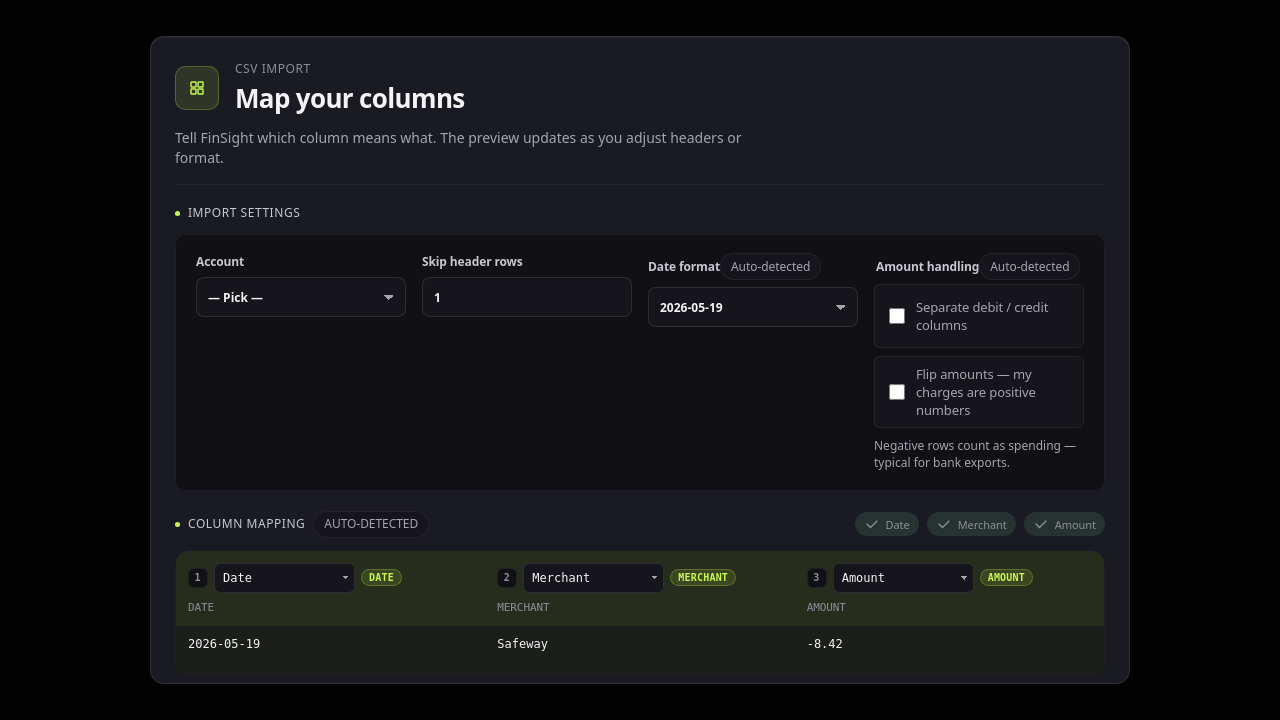
Test case: ImportMappingDialog › an ActivityType column satisfies the merchant requirement (brokerage exports)
Expected: the text "Safeway" is shown, [485,627,795,675]
Select "Chase · Checking" in the dropdown labelled "Account" at (301, 297), box [196,277,406,317]
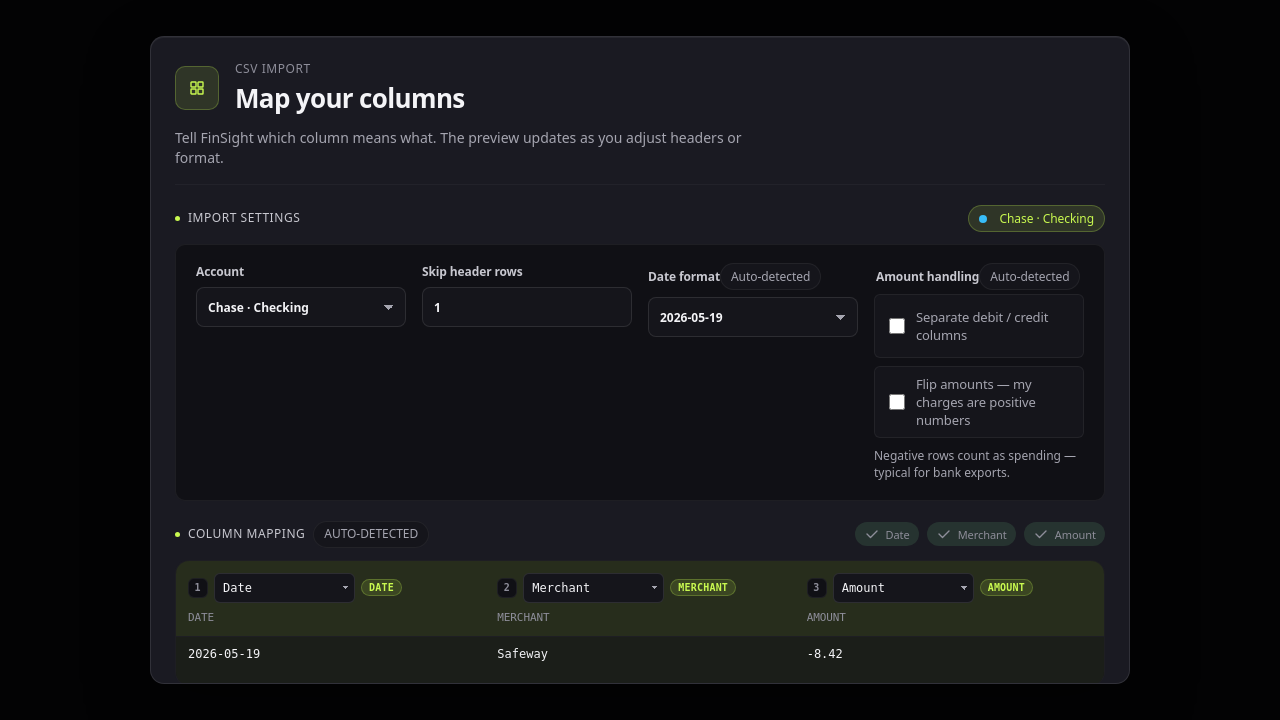
Select "ActivityType" in the dropdown named "Column 2 role" at (594, 588), box [523,573,664,603]
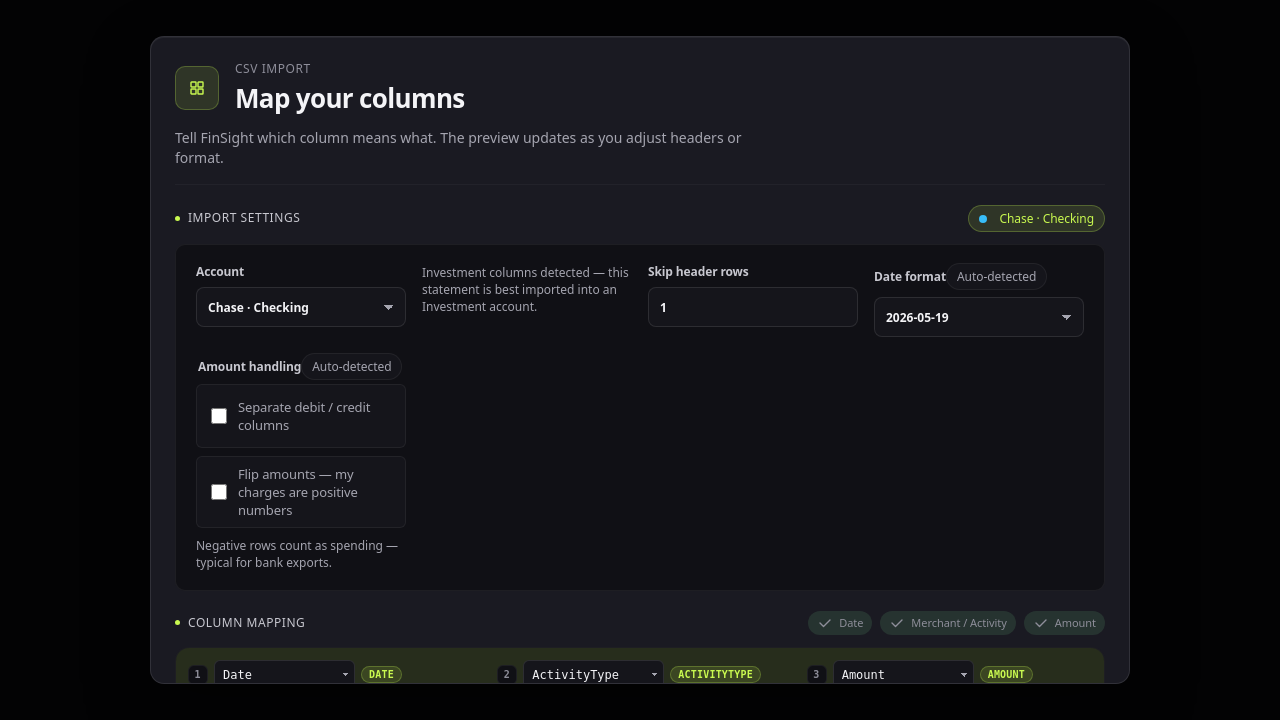
Expected: the element named "Merchant / Activity mapped" is shown, [880,611,1016,635]
